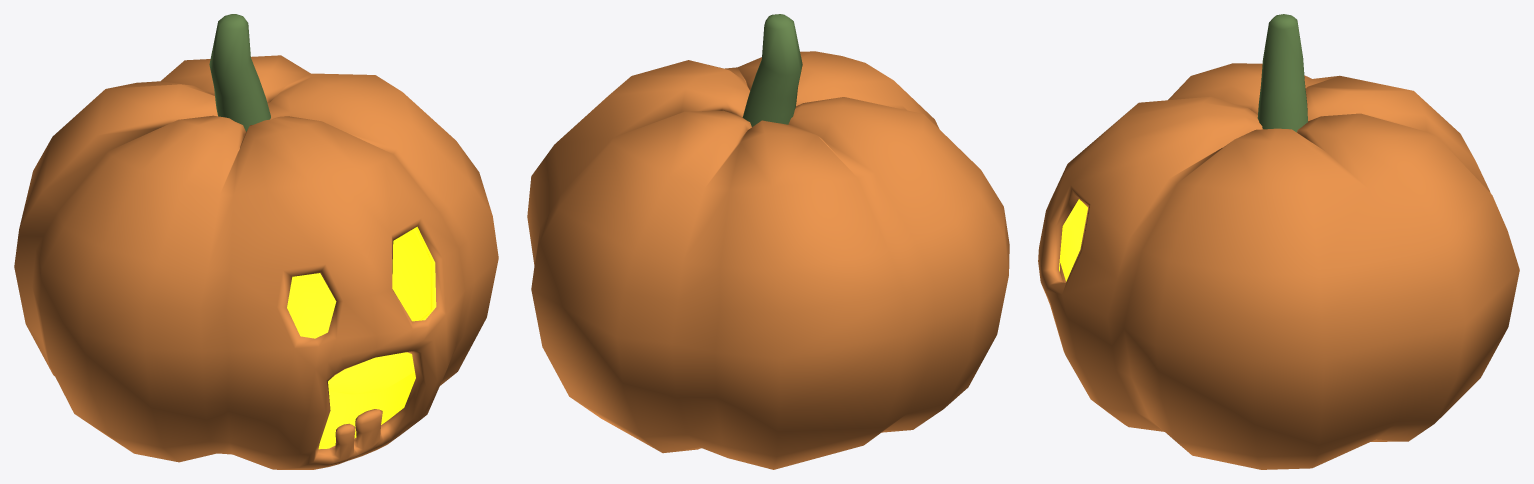
The model's file is pumpkin_4.fbx.
The picture shows the model from 3 angles, left to right: view 1: azimuth 30°, elevation 25°; view 2: azimuth 150°, elevation 25°; view 3: azimuth 270°, elevation 25°; orthographic projection. The views are drawn at different scales.
Parts seen in each view (by area): view 1: pumpkin_4; view 2: pumpkin_4; view 3: pumpkin_4.
Boxes of the visible parts, x1,y1,x2,y2 form: pumpkin_4: (14,14,498,469); pumpkin_4: (527,14,1009,469); pumpkin_4: (1038,14,1519,469).
Bounding box in the file's own units: 126 × 112 × 125.
